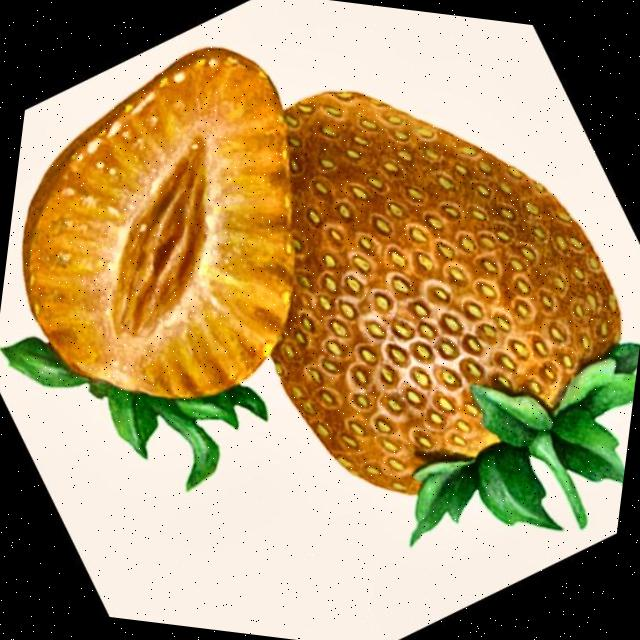strawberry: (270, 92, 639, 541), (1, 47, 295, 489)
